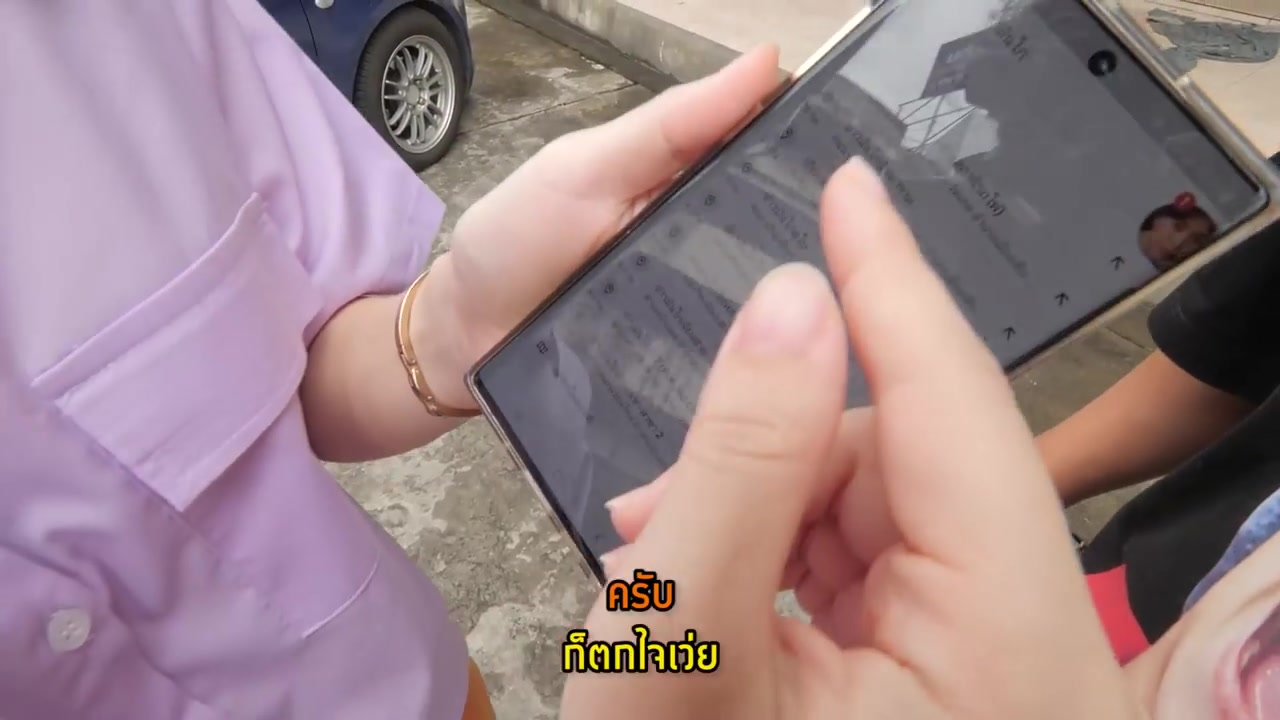text-label: (558, 623, 722, 674), (601, 567, 678, 612)
